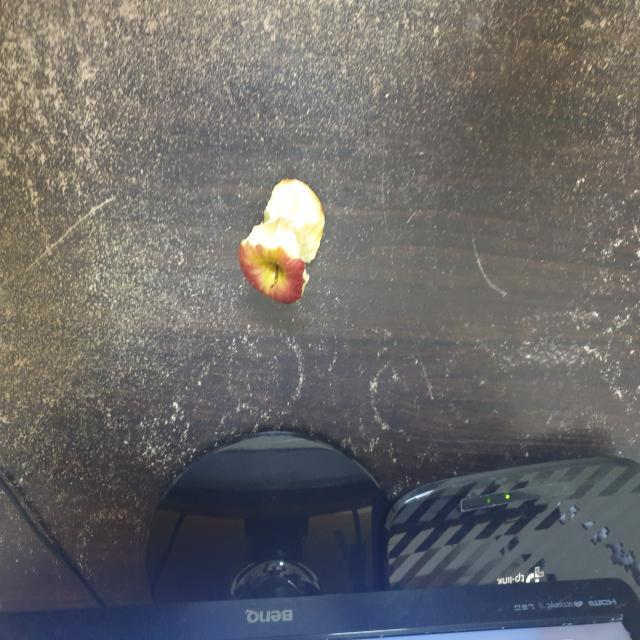apple: (228, 166, 332, 313)
